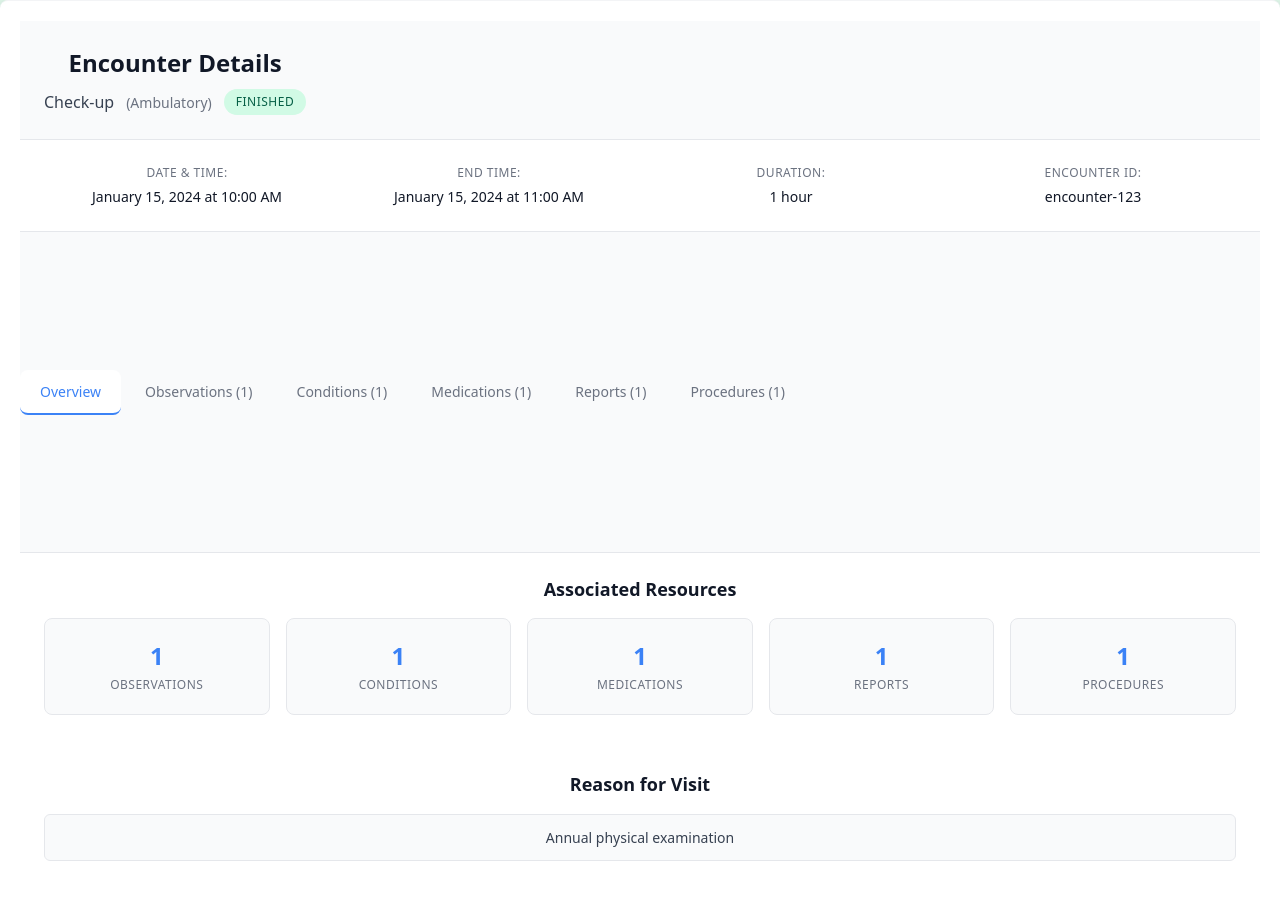
Test: EncounterDetails › has proper CSS structure for scrolling behavior
Expected: the button "Observations (1)" is shown, [125, 370, 273, 414]
Expected: the element with class "tab-content" is shown, [20, 553, 1260, 899]
Note: Switch to medications tab to test resource list scrolling
Click the button "Medications (1)" at (481, 392), box [411, 370, 551, 414]
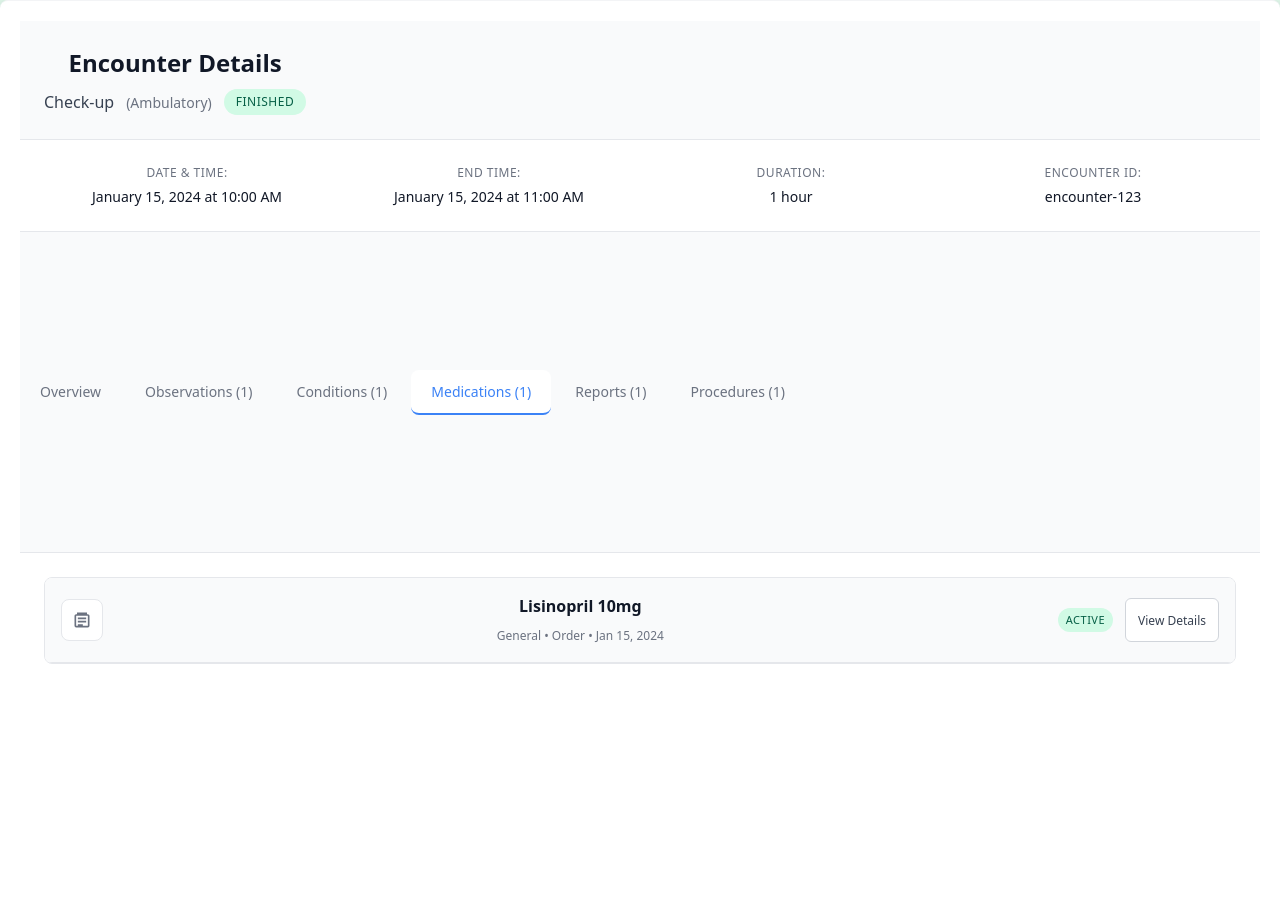
Now the element with class "resource-list" is shown, box [44, 577, 1236, 664]
